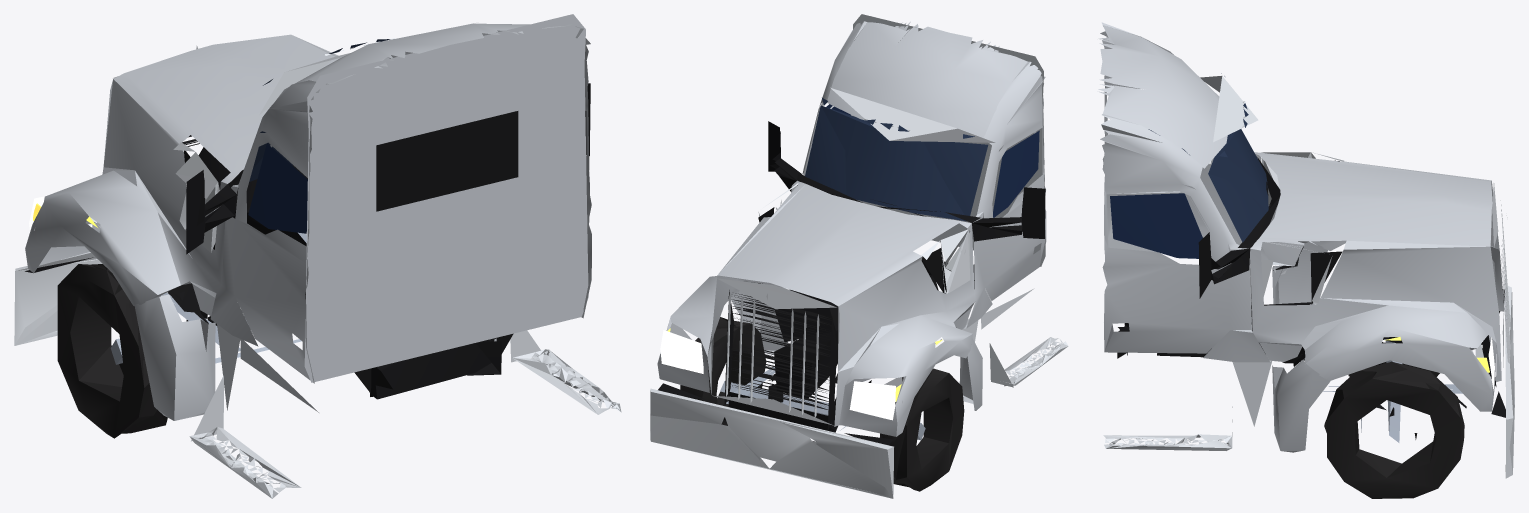
File: cab_americana_lod2.glb
3 views of the same model, side by side, from view 1: azimuth 30°, elevation 25°; view 2: azimuth 150°, elevation 25°; view 3: azimuth 270°, elevation 25° (orthographic). The views are drawn at different scales.
Parts seen in each view (by area): view 1: lod2_paint_white_panel, lod2_plastic_black, lod2_chrome, lod2_rubber_tire, lod2_glass, lod2_steel; view 2: lod2_paint_white_panel, lod2_chrome, lod2_plastic_black, lod2_glass_wind, lod2_rubber_tire, lod2_lamp_white, lod2_glass, lod2_steel; view 3: lod2_paint_white_panel, lod2_rubber_tire, lod2_chrome, lod2_glass, lod2_plastic_black, lod2_glass_wind, lod2_steel.
Boxes of the visible parts, left/top/right/bottom form: lod2_paint_white_panel: left=25, top=14, right=591, bottom=420; lod2_plastic_black: left=25, top=83, right=590, bottom=399; lod2_chrome: left=14, top=23, right=621, bottom=498; lod2_rubber_tire: left=57, top=264, right=167, bottom=438; lod2_glass: left=248, top=143, right=307, bottom=233; lod2_steel: left=110, top=232, right=306, bottom=364; lod2_paint_white_panel: left=657, top=14, right=1046, bottom=436; lod2_chrome: left=650, top=87, right=1068, bottom=498; lod2_plastic_black: left=658, top=121, right=1045, bottom=445; lod2_glass_wind: left=805, top=98, right=988, bottom=221; lod2_rubber_tire: left=680, top=317, right=964, bottom=491; lod2_lamp_white: left=660, top=330, right=895, bottom=420; lod2_glass: left=826, top=104, right=1039, bottom=217; lod2_steel: left=720, top=365, right=925, bottom=440; lod2_paint_white_panel: left=1097, top=22, right=1504, bottom=452; lod2_rubber_tire: left=1324, top=342, right=1464, bottom=498; lod2_chrome: left=1103, top=76, right=1514, bottom=478; lod2_glass: left=1110, top=129, right=1202, bottom=258; lod2_plastic_black: left=1117, top=157, right=1505, bottom=439; lod2_glass_wind: left=1208, top=73, right=1268, bottom=242; lod2_steel: left=1323, top=340, right=1462, bottom=442.
Bounding box in the file's own units: 2.78 × 3.19 × 3.19.
Materials: 9 (3 with a texture image).
